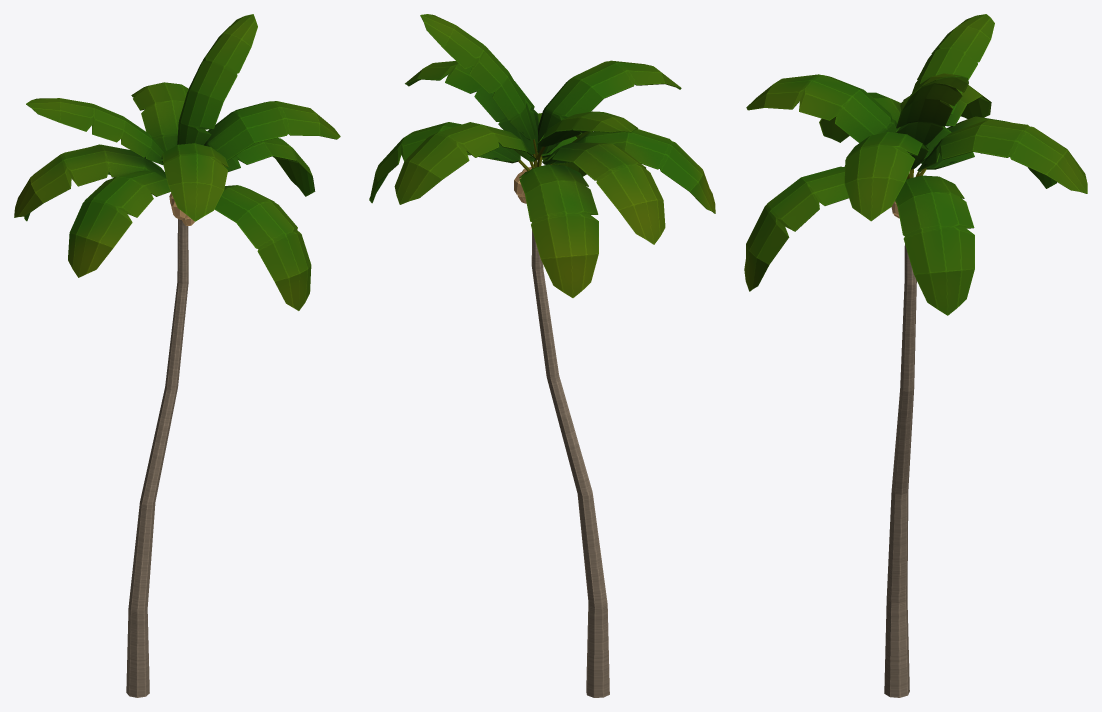
The model's file is Coconut palm tree.glb.
3 views of the same model, side by side, from view 1: azimuth 30°, elevation 25°; view 2: azimuth 150°, elevation 25°; view 3: azimuth 270°, elevation 25° (orthographic). The views are drawn at different scales.
Visible parts, largest first — view 1: CoconutPalmTree_mesh; view 2: CoconutPalmTree_mesh; view 3: CoconutPalmTree_mesh.
Boxes of the visible parts, x1,y1,x2,y2 form: CoconutPalmTree_mesh: [14, 14, 340, 697]; CoconutPalmTree_mesh: [369, 14, 715, 697]; CoconutPalmTree_mesh: [744, 14, 1087, 697].
Size of the model in its own units: 12.75 by 27.08 by 12.16.
Materials: 1 (1 with a texture image).
